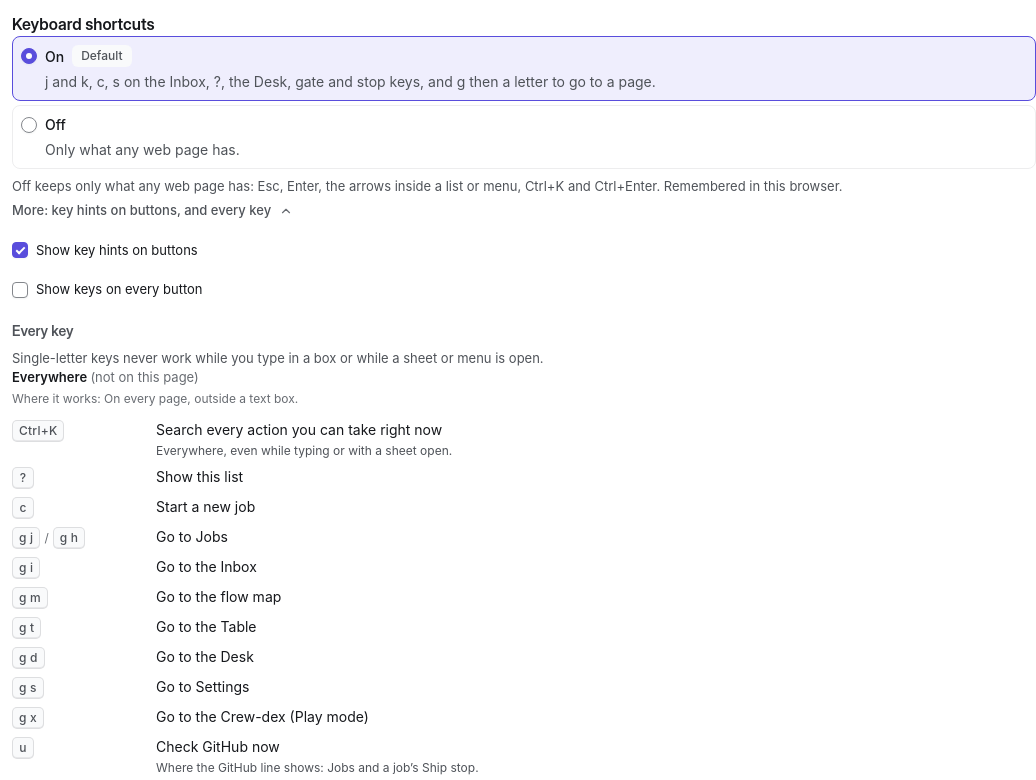
Test case: Settings → Keys › Show keys on every button: off by default (only the main action shows its key), remembered, and off while hints are off
Click the checkbox labelled "Show keys on every button" at (20, 290), box [12,282,28,298]
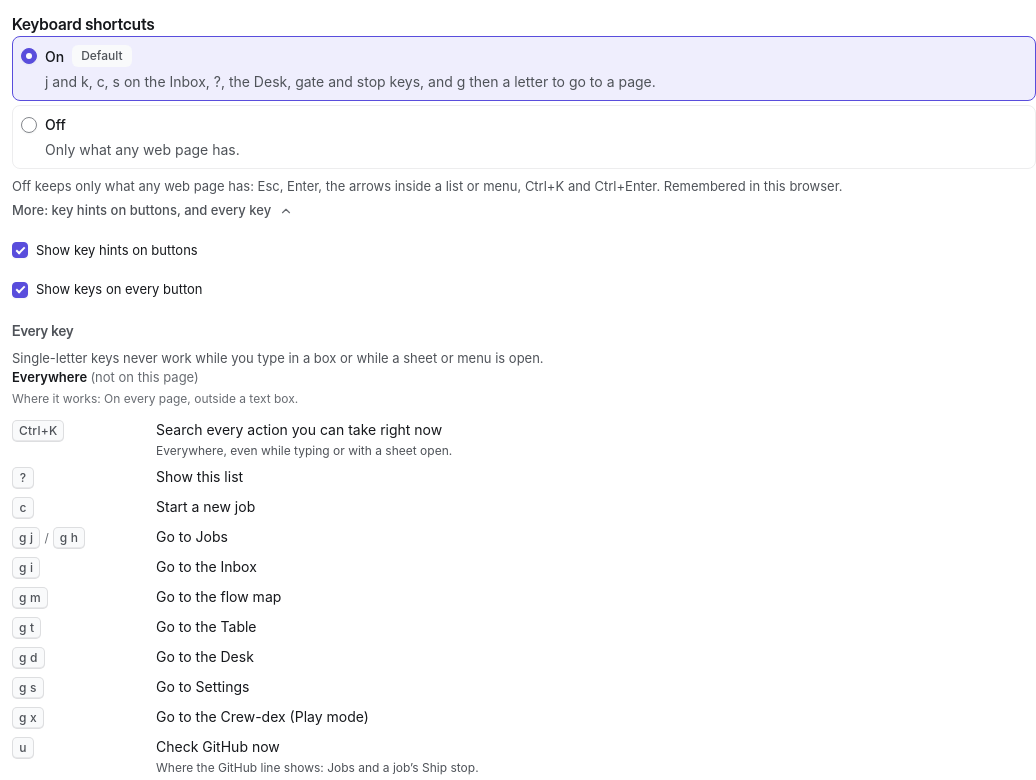
Click the checkbox labelled "Show key hints on buttons" at (20, 250), box [12,242,28,258]
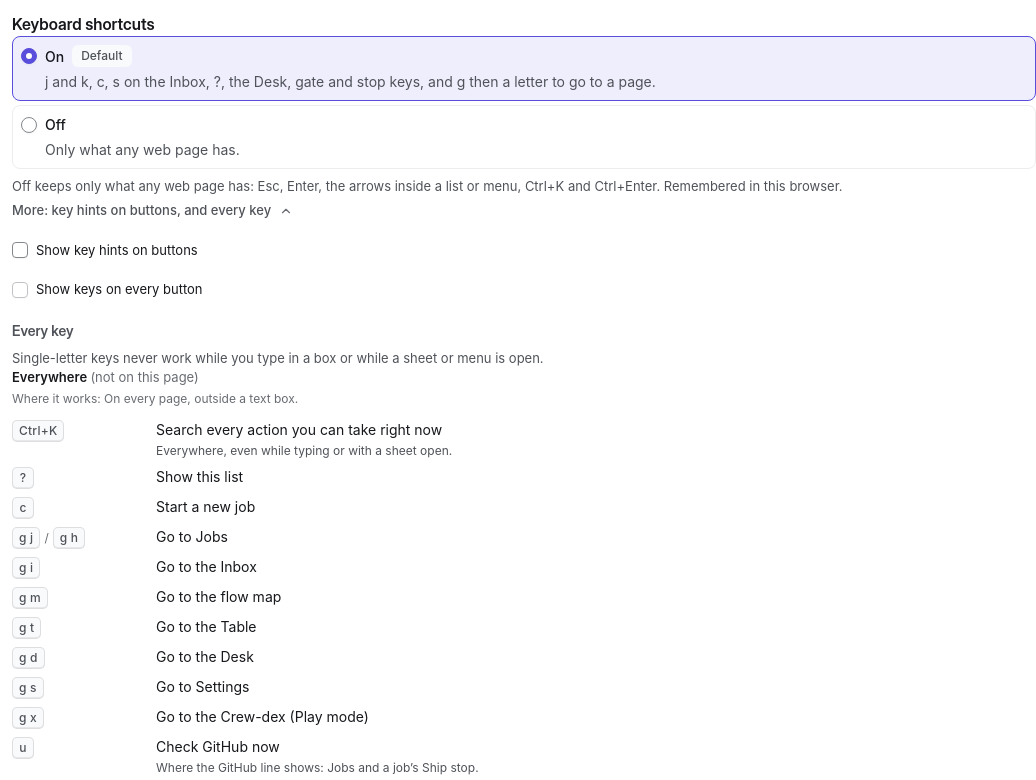
Check: the checkbox labelled "Show keys on every button" is not checked, box [12,282,28,298]
Check: the checkbox labelled "Show keys on every button" is disabled, box [12,282,28,298]
